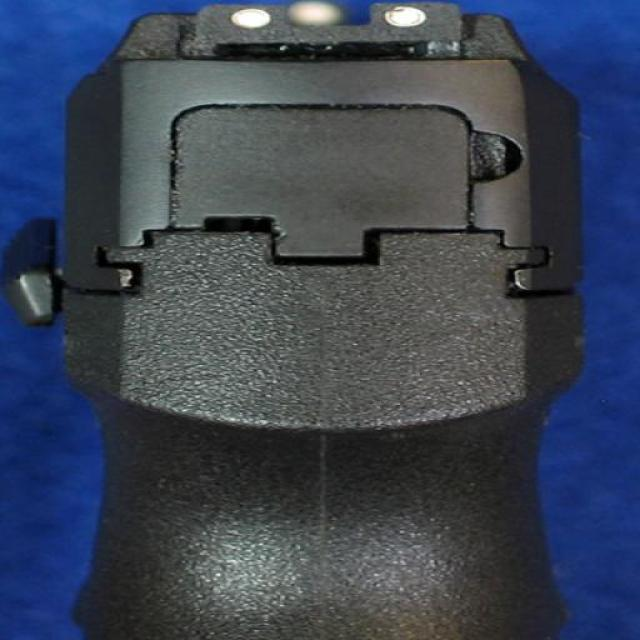pistol: (69, 1, 575, 635)
